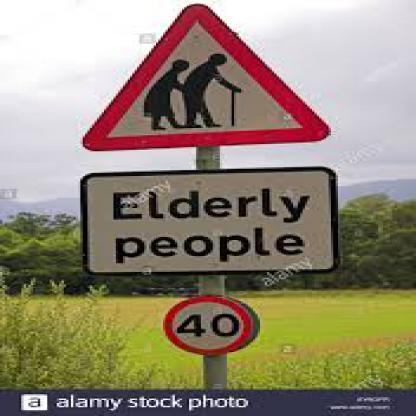Speed Limit 40: (164, 296, 253, 353)
